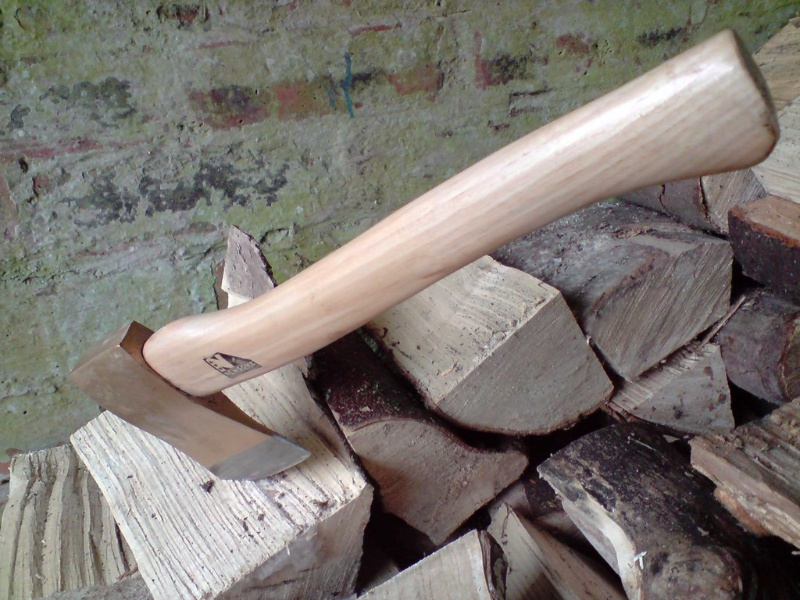axe: (57, 307, 330, 490)
